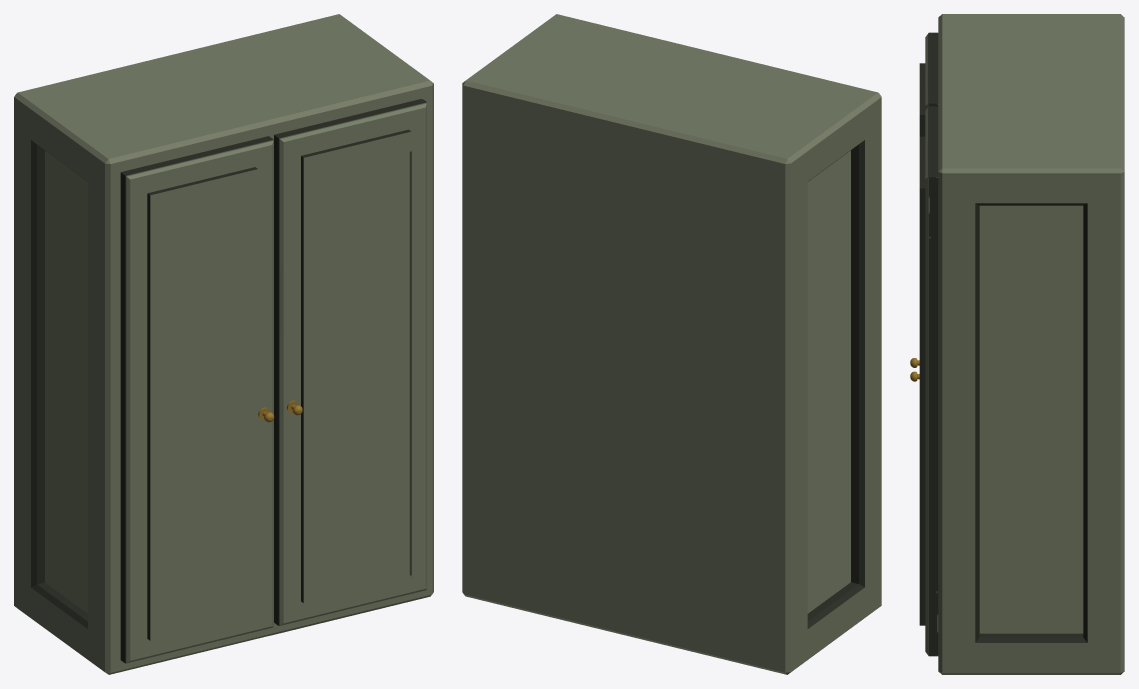
File: HangingCabinet.glb
The picture shows the model from 3 angles, left to right: view 1: azimuth 30°, elevation 25°; view 2: azimuth 150°, elevation 25°; view 3: azimuth 270°, elevation 25°; orthographic projection.
Parts seen in each view (by area): view 1: Hanging Cabinet; view 2: Hanging Cabinet; view 3: Hanging Cabinet.
Part boxes in pixels (<box>): Hanging Cabinet: <box>14,14,433,674</box>; Hanging Cabinet: <box>462,14,881,674</box>; Hanging Cabinet: <box>910,14,1124,674</box>.
Bounding box in the file's own units: 1 × 1.5 × 0.5748.
1 material, 1 textured.
